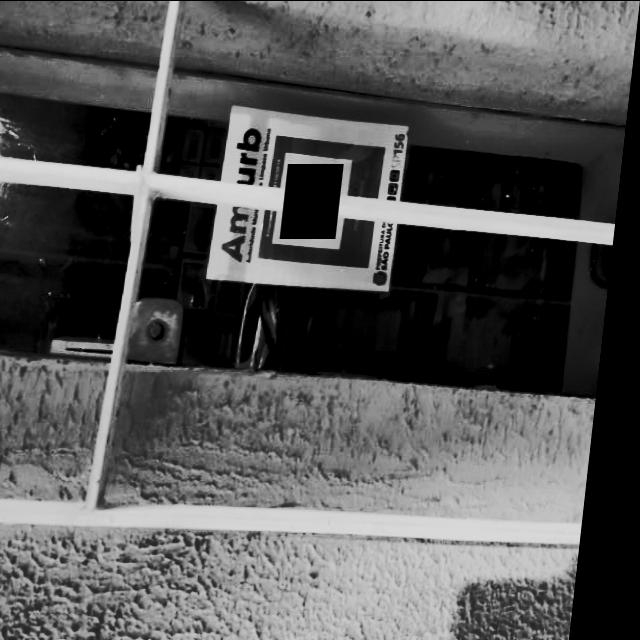qr_code: (285, 163, 348, 238)
